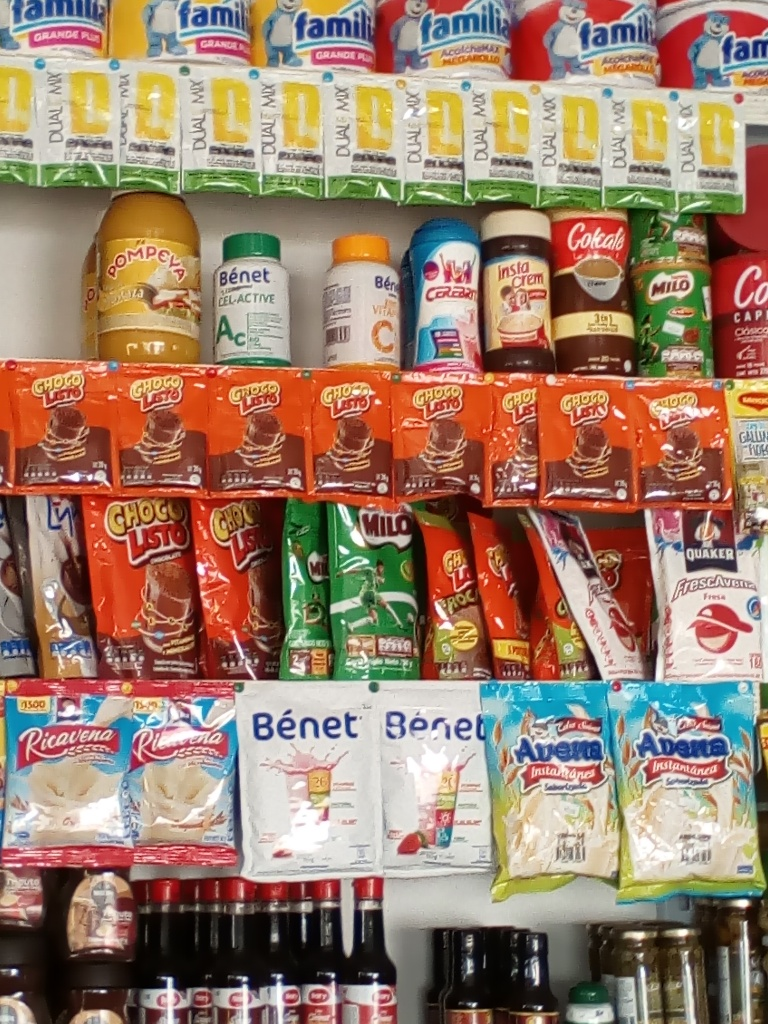COL0170203LAT20000: (631, 261, 720, 376)
